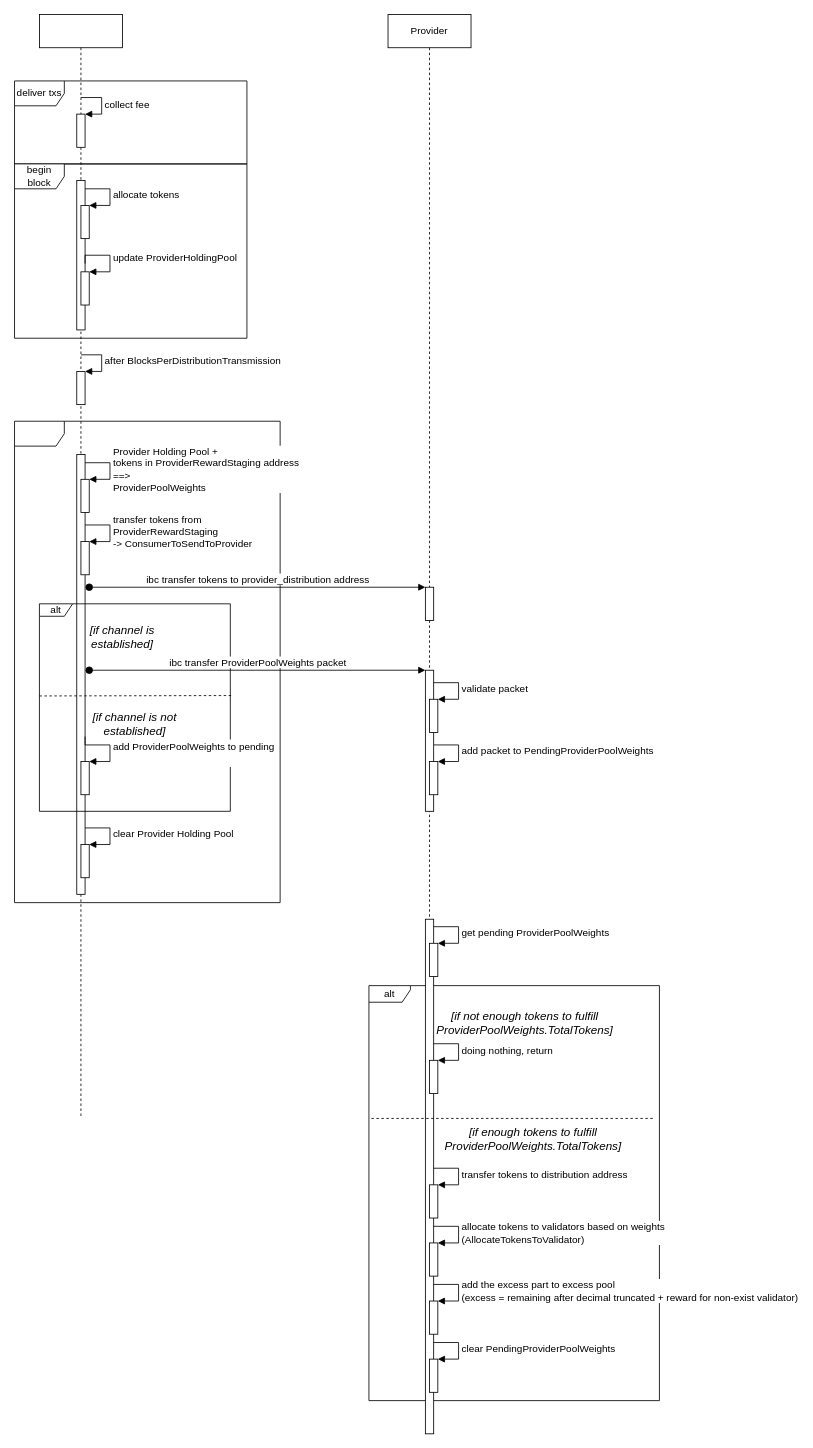
Image size: 813x1448. Some labels were removed from this diagram. Here are the shapes that lost their labels. From the top down, the box of each, then its label:
(39, 14, 122, 1118): consumer
(14, 420, 280, 903): end block
